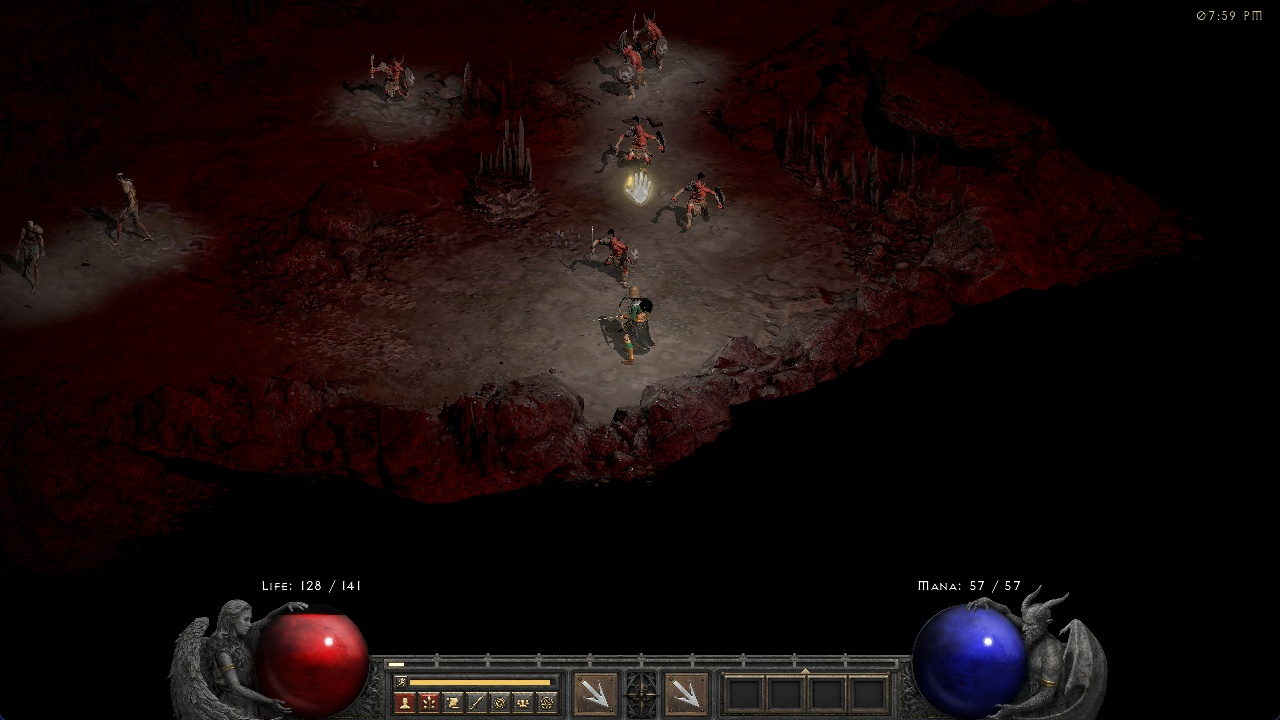fallen: (585, 229, 640, 288), (671, 174, 731, 228), (606, 118, 668, 168), (363, 53, 416, 101), (611, 35, 646, 101), (645, 17, 666, 70)
